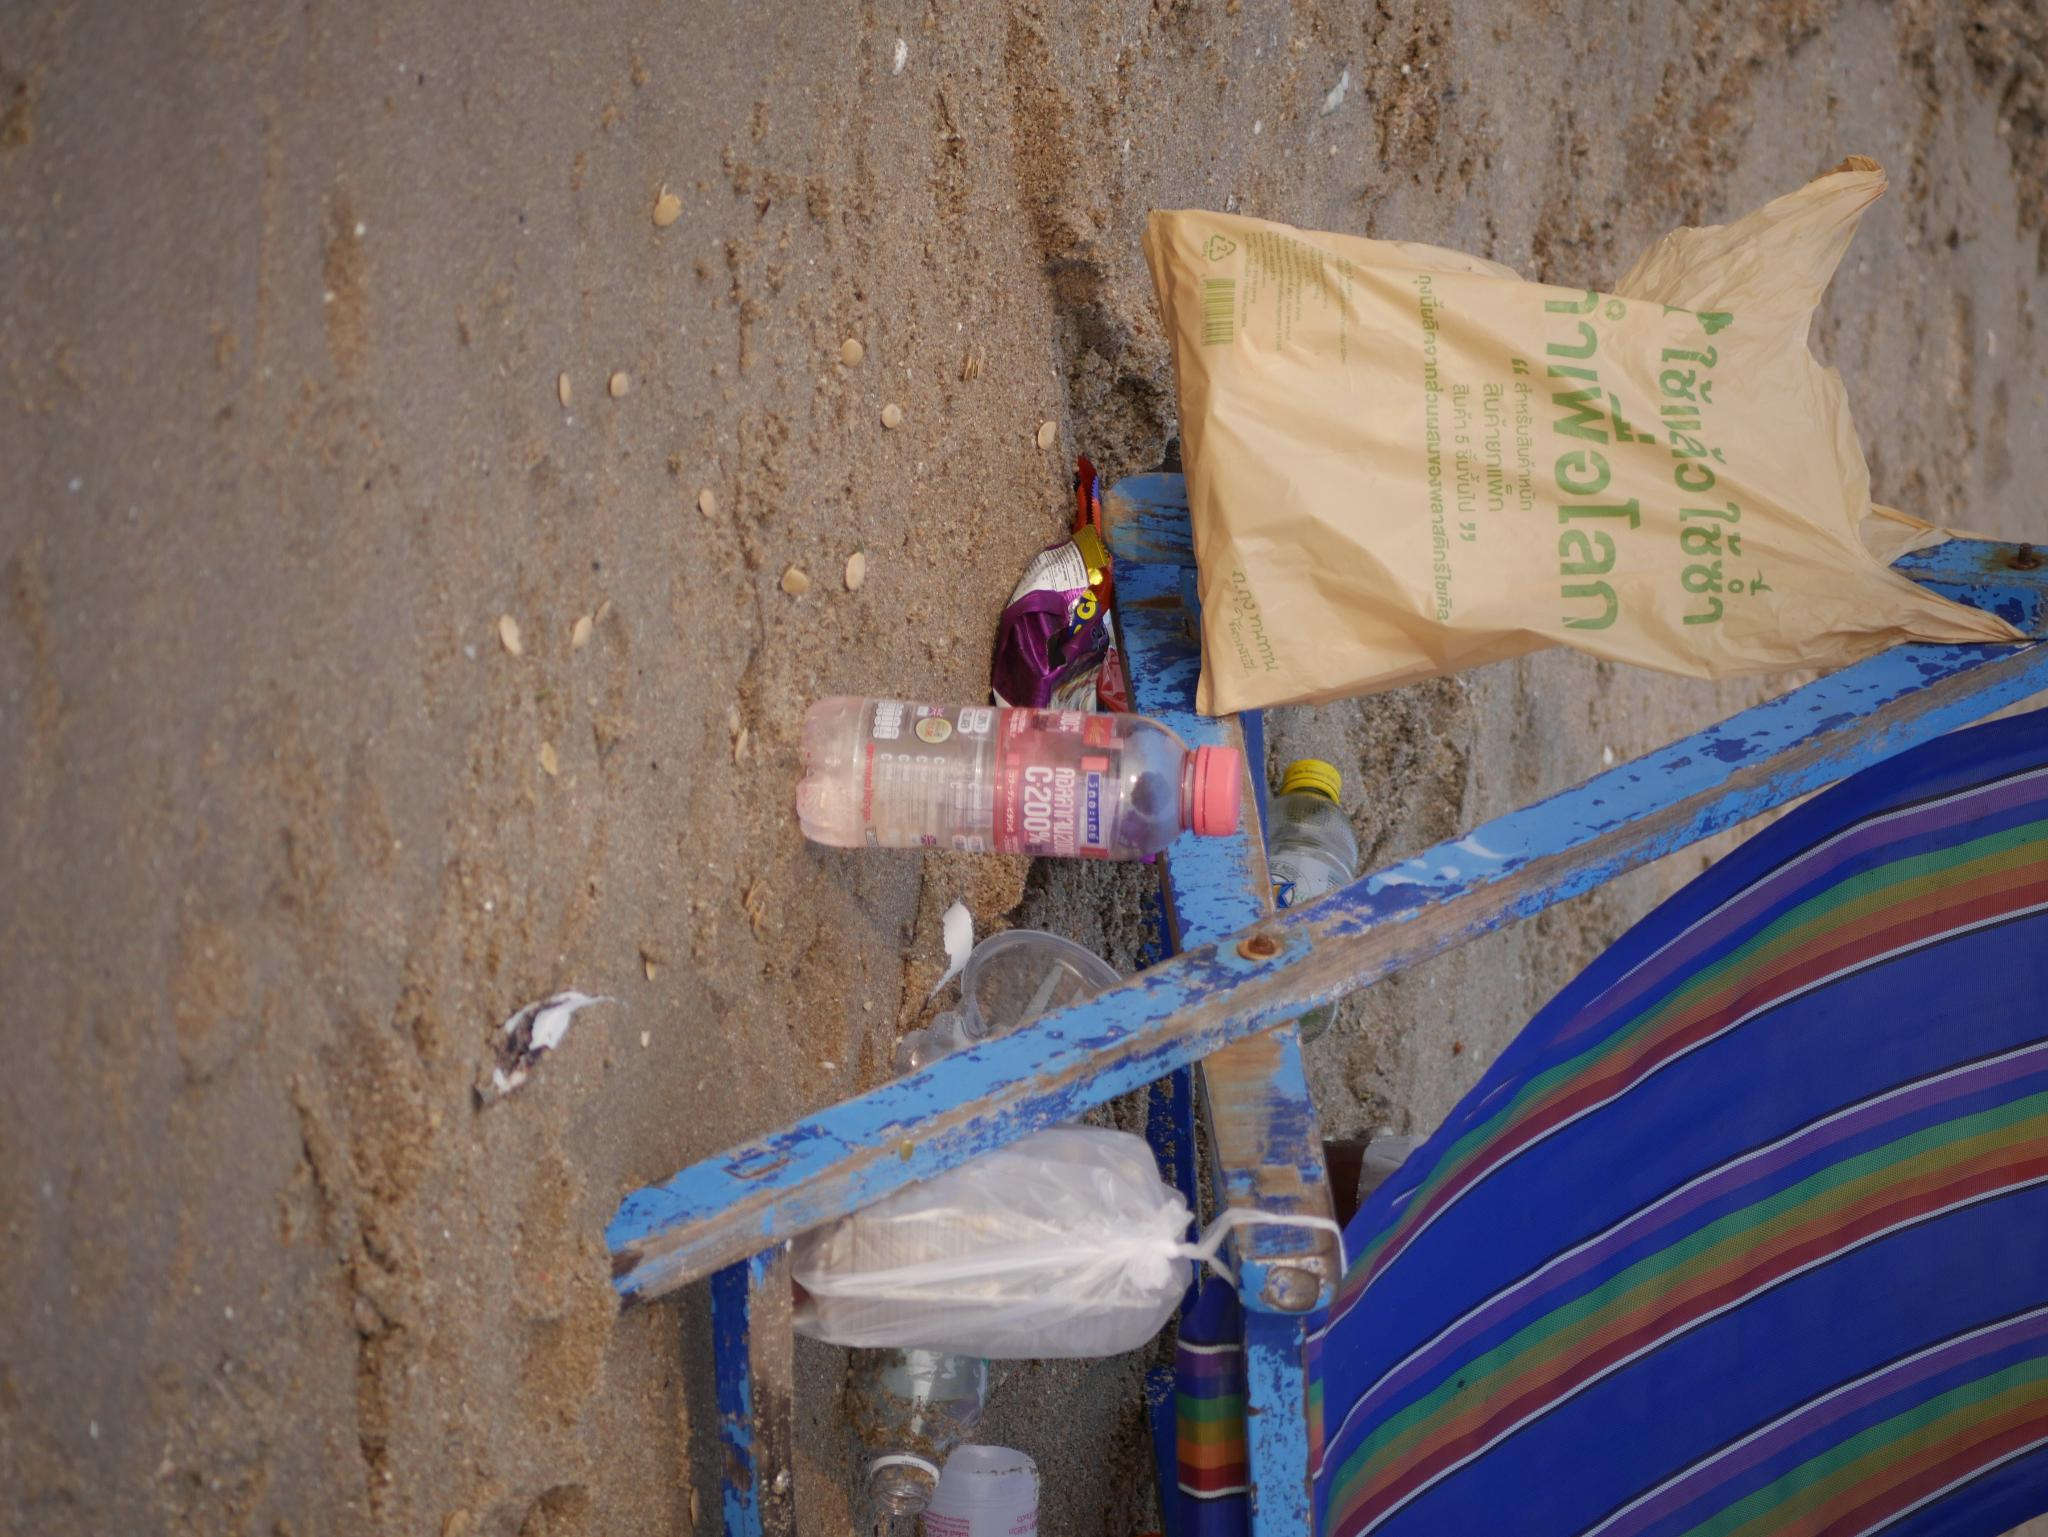Plastic: (691, 777, 867, 1275)
Trash: (98, 5, 746, 909), (1102, 683, 1412, 1287)
